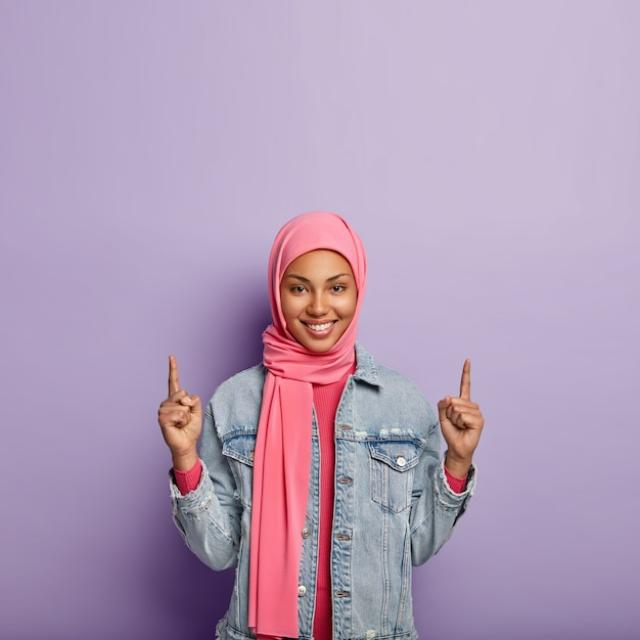Person: (158, 212, 484, 640)
